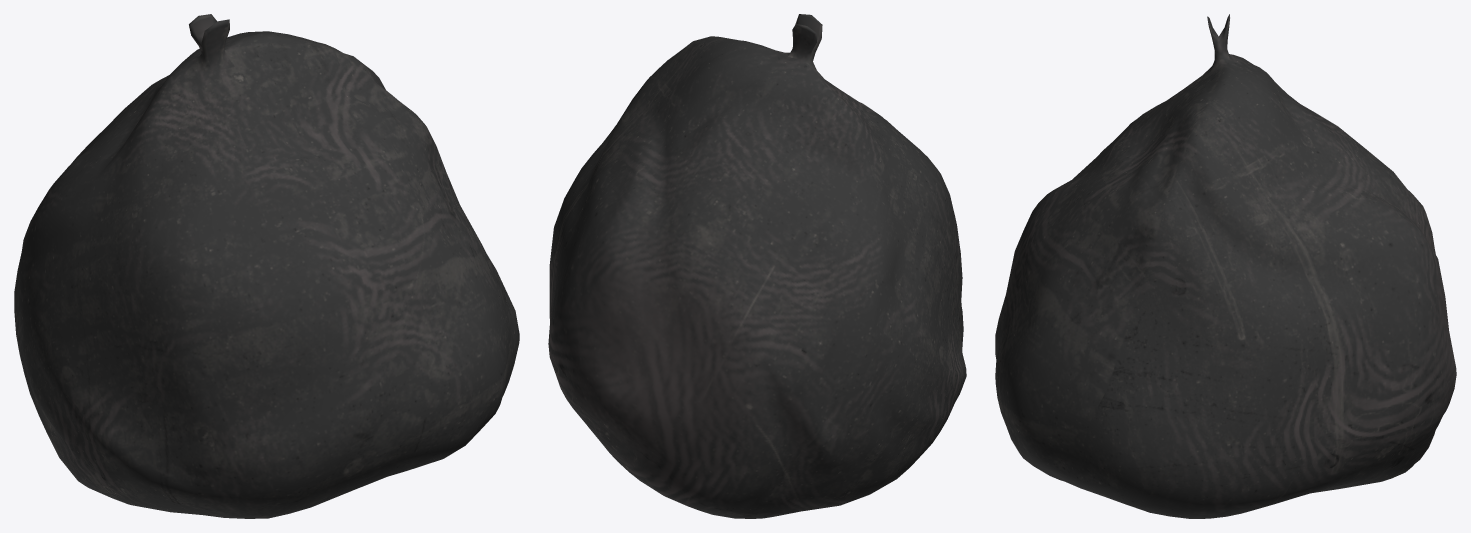
Rendered from SM_Trashbag01.fbx.
The picture shows the model from 3 angles, left to right: view 1: azimuth 30°, elevation 25°; view 2: azimuth 150°, elevation 25°; view 3: azimuth 270°, elevation 25°; orthographic projection. The views are drawn at different scales.
Visible parts, largest first — view 1: SM_Trashbag01_LOD0; view 2: SM_Trashbag01_LOD0; view 3: SM_Trashbag01_LOD0.
Part boxes in pixels (bbox=[...]): SM_Trashbag01_LOD0: bbox=[14, 14, 519, 518]; SM_Trashbag01_LOD0: bbox=[548, 14, 966, 518]; SM_Trashbag01_LOD0: bbox=[995, 14, 1456, 518].
Size of the model in its own units: 53.58 by 54.24 by 59.
1 material, 1 textured.
